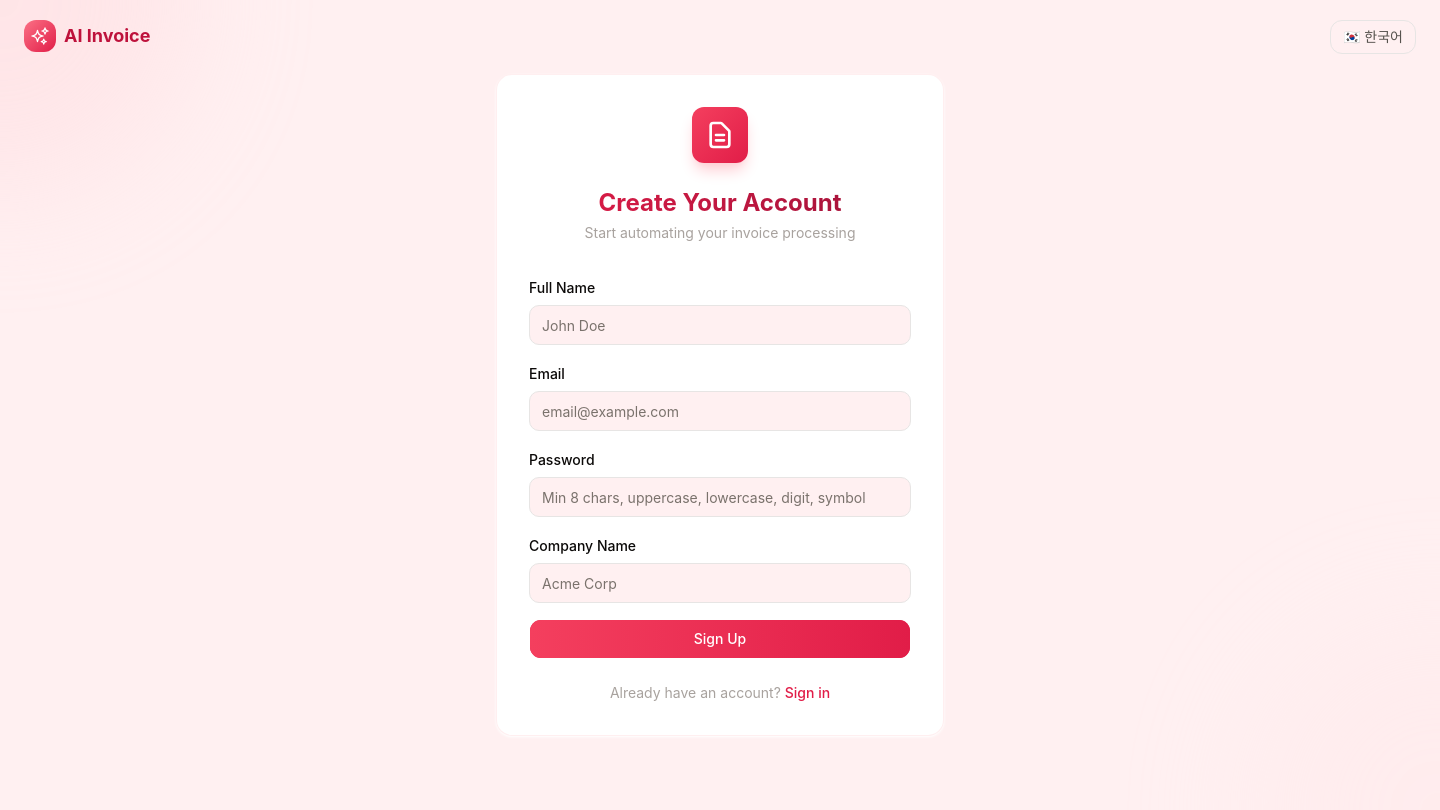
SignupPage › shows error message on signup failure
Type "John" into the field labelled "Full Name" at {"x": 720, "y": 325}, box x1=529 y1=305 x2=911 y2=345
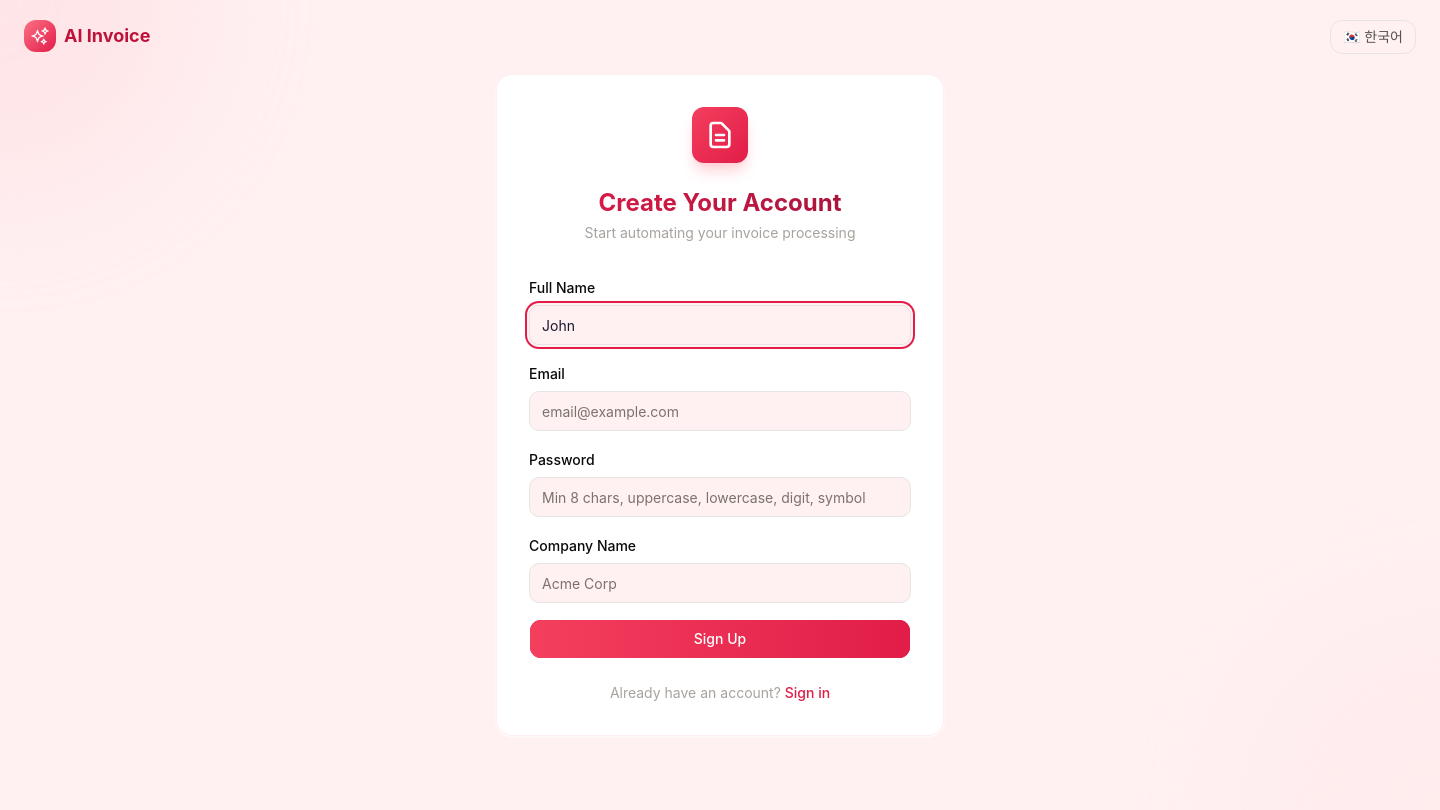
Type "john@test.com" into the field labelled "Email" at {"x": 720, "y": 411}, box x1=529 y1=391 x2=911 y2=431
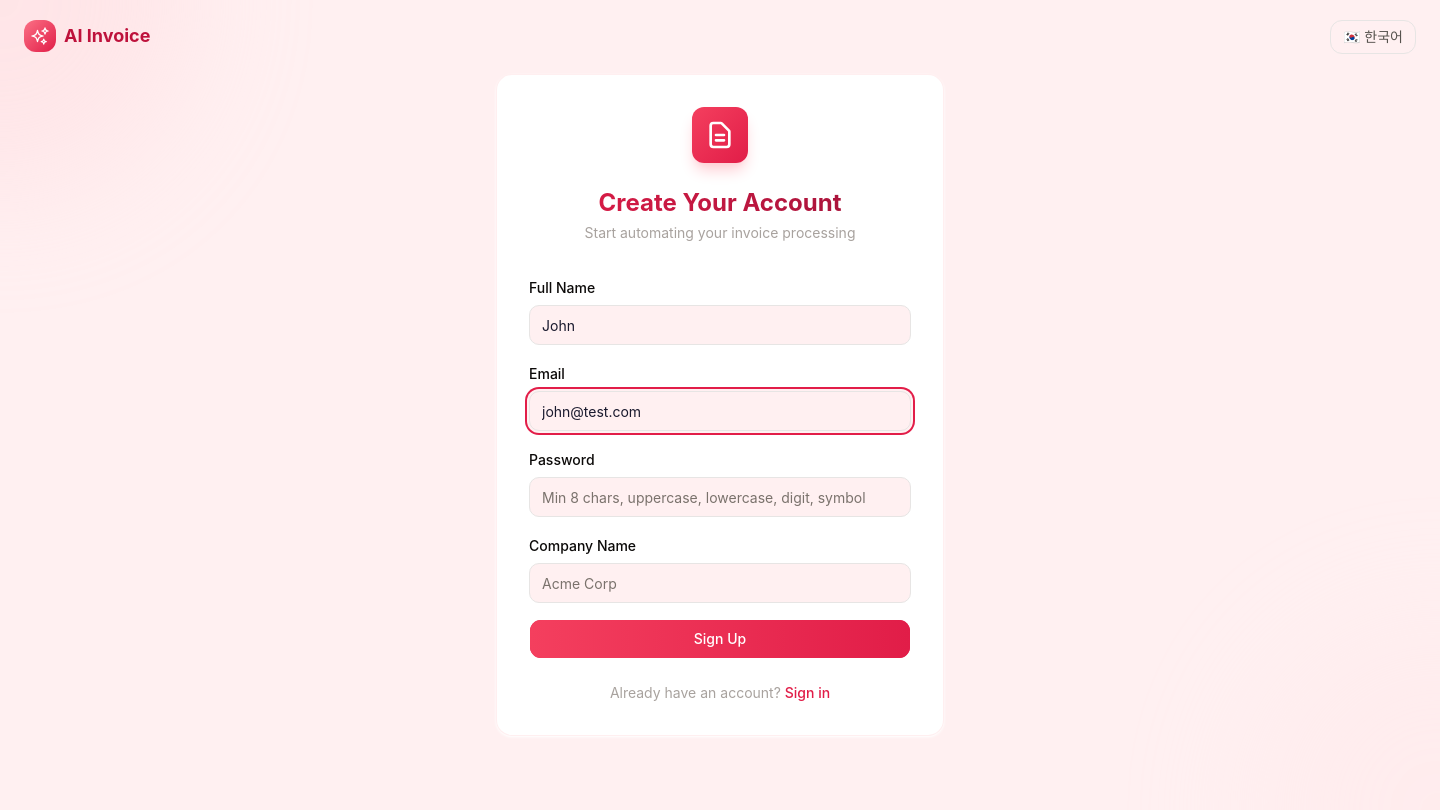
Type "Pass1234!" into the password field labelled "Password" at {"x": 720, "y": 497}, box x1=529 y1=477 x2=911 y2=517
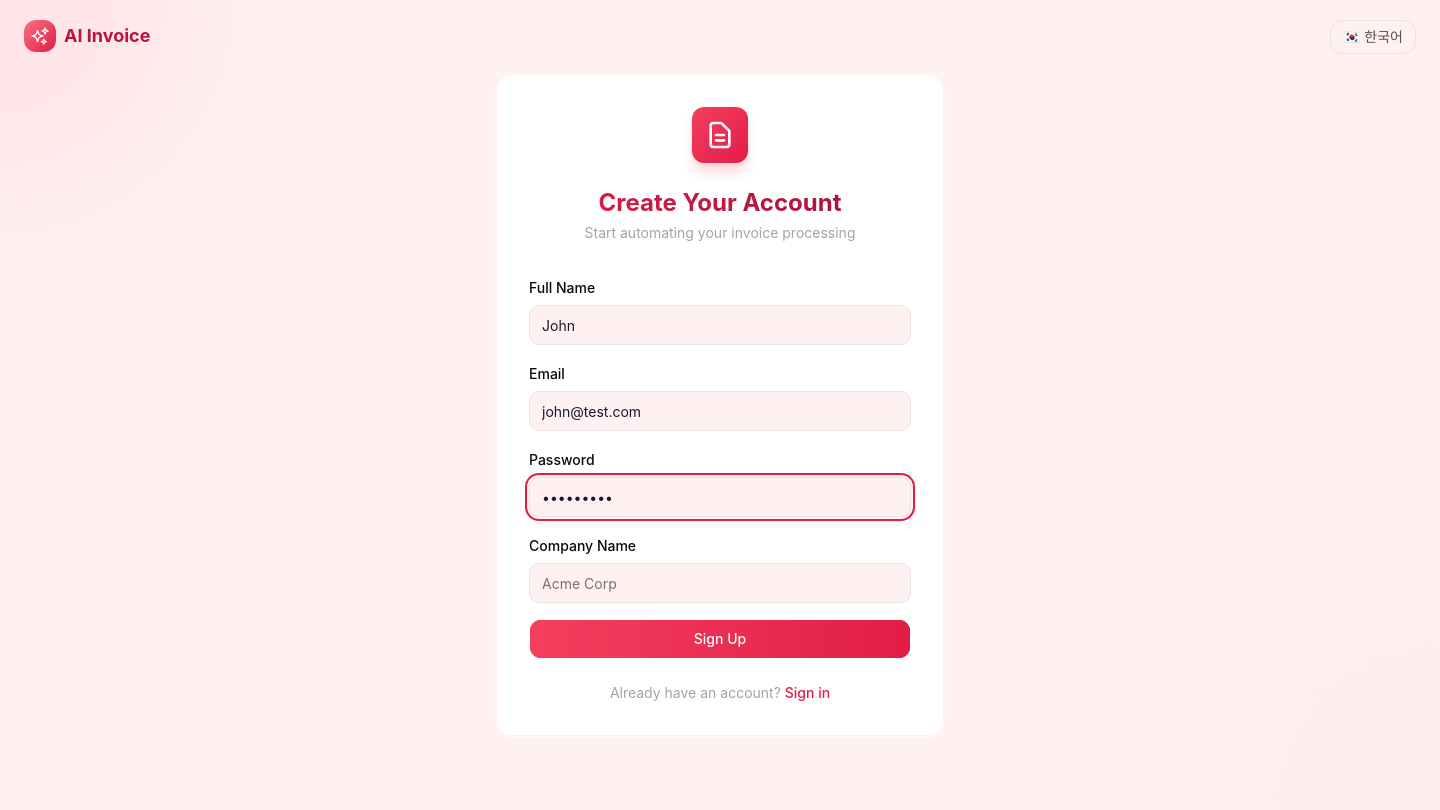
Type "Test" into the field labelled "Company Name" at {"x": 720, "y": 583}, box x1=529 y1=563 x2=911 y2=603
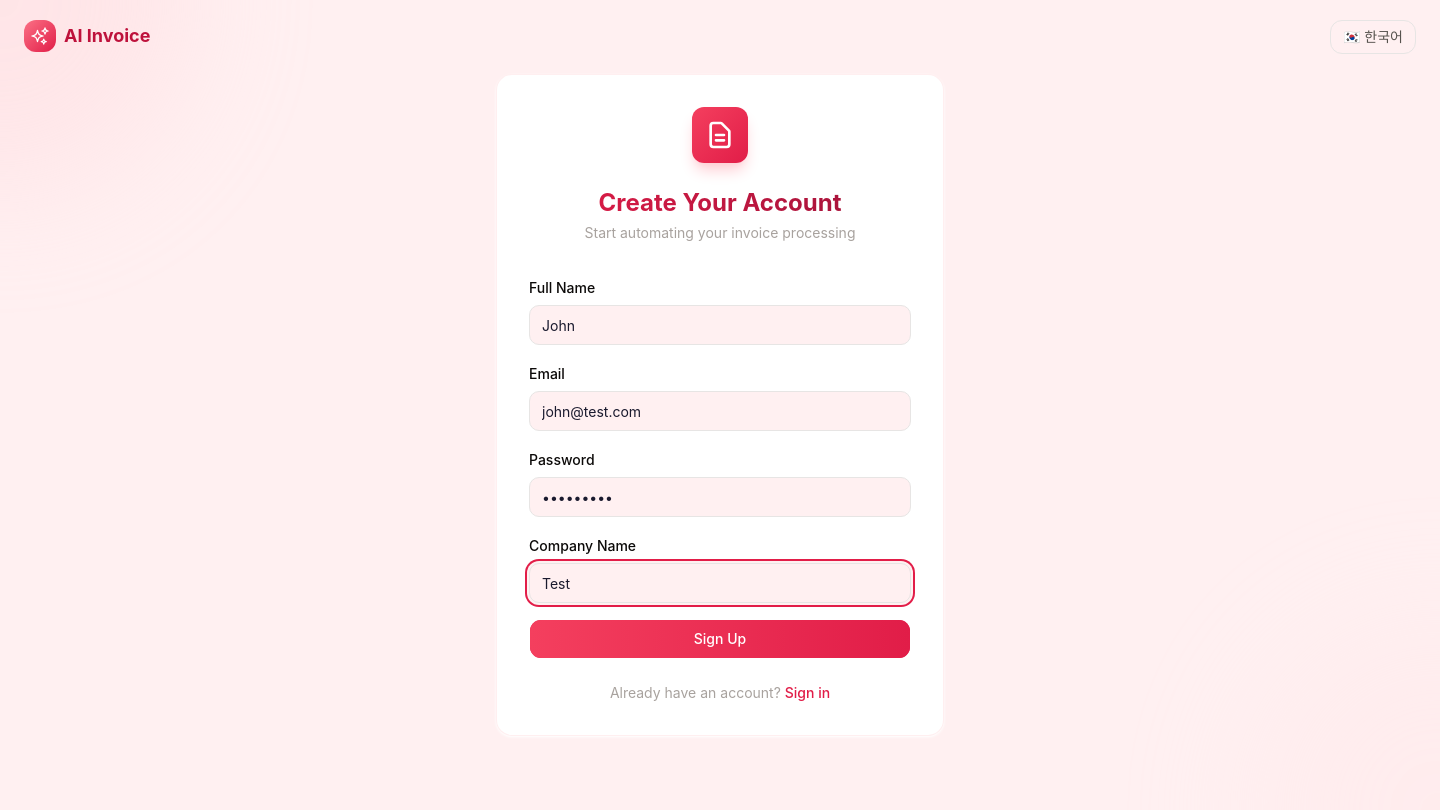
Click the button "Sign Up" at {"x": 720, "y": 639}, box x1=529 y1=619 x2=911 y2=659
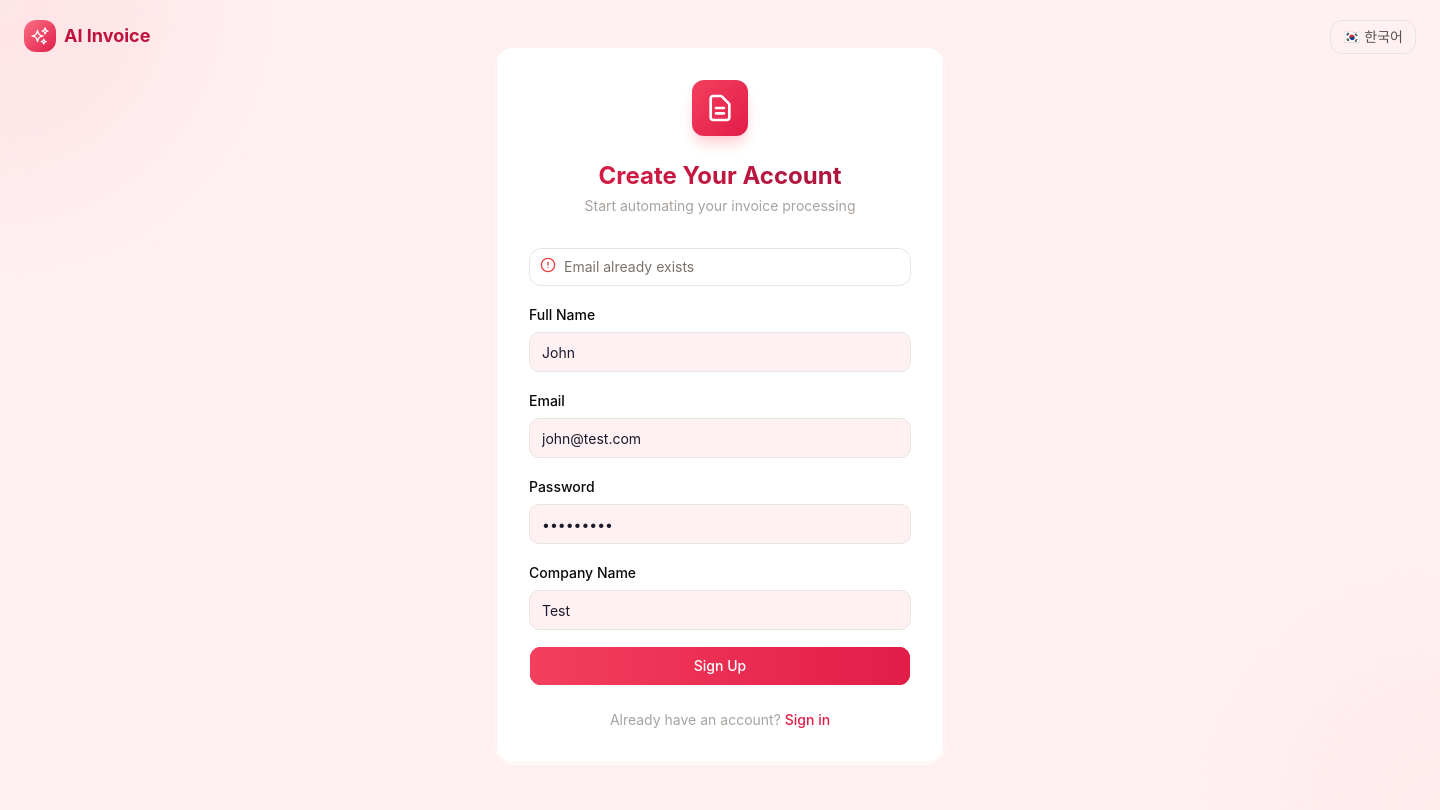
Now the text "Email already exists" is shown, box x1=564 y1=258 x2=694 y2=275
